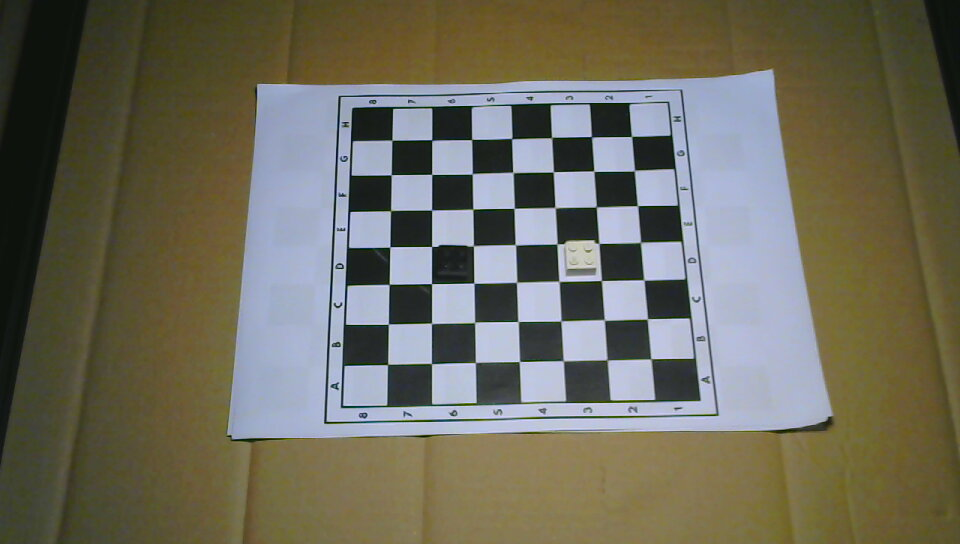bp: (435, 244, 470, 279)
wp: (563, 239, 598, 275)
